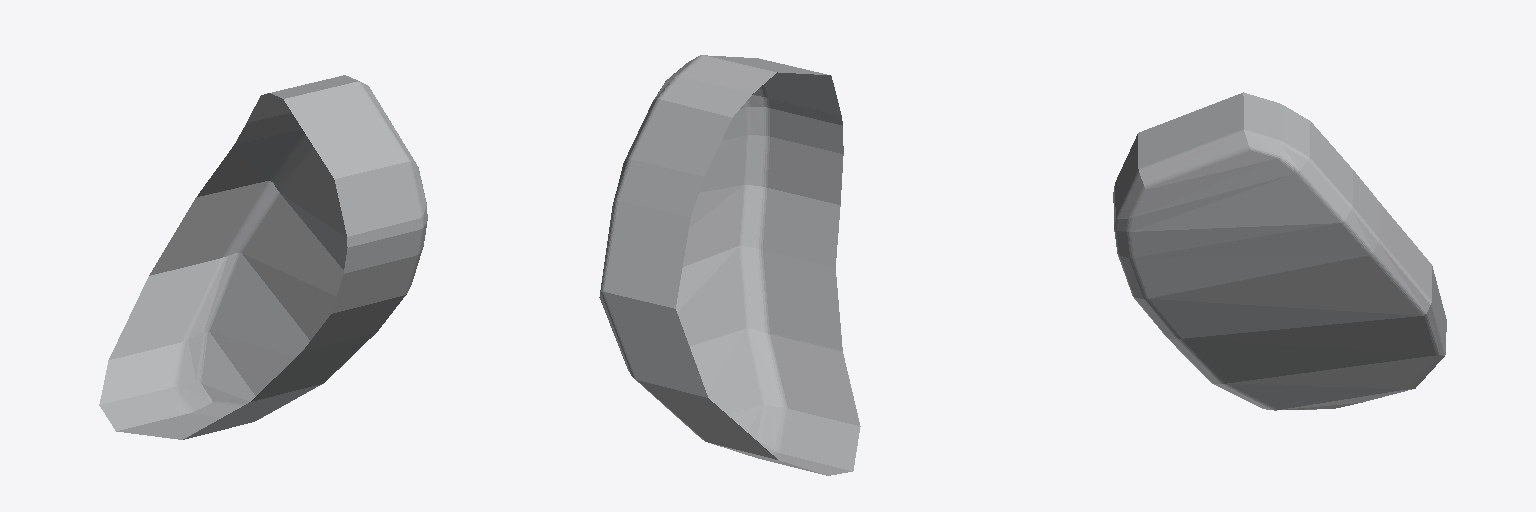
3 views of the same model, side by side, from view 1: azimuth 30°, elevation 25°; view 2: azimuth 150°, elevation 25°; view 3: azimuth 270°, elevation 25° (orthographic).
Visible parts, largest first — view 1: button_grip; view 2: button_grip; view 3: button_grip.
Part boxes in pixels (x1,y1,x2,y2): button_grip: (99,75,427,439); button_grip: (599,55,860,475); button_grip: (1113,92,1446,410).
Size of the model in its own units: 0.0136 by 0.0194 by 0.0175.
Materials: 1 (1 with a texture image).